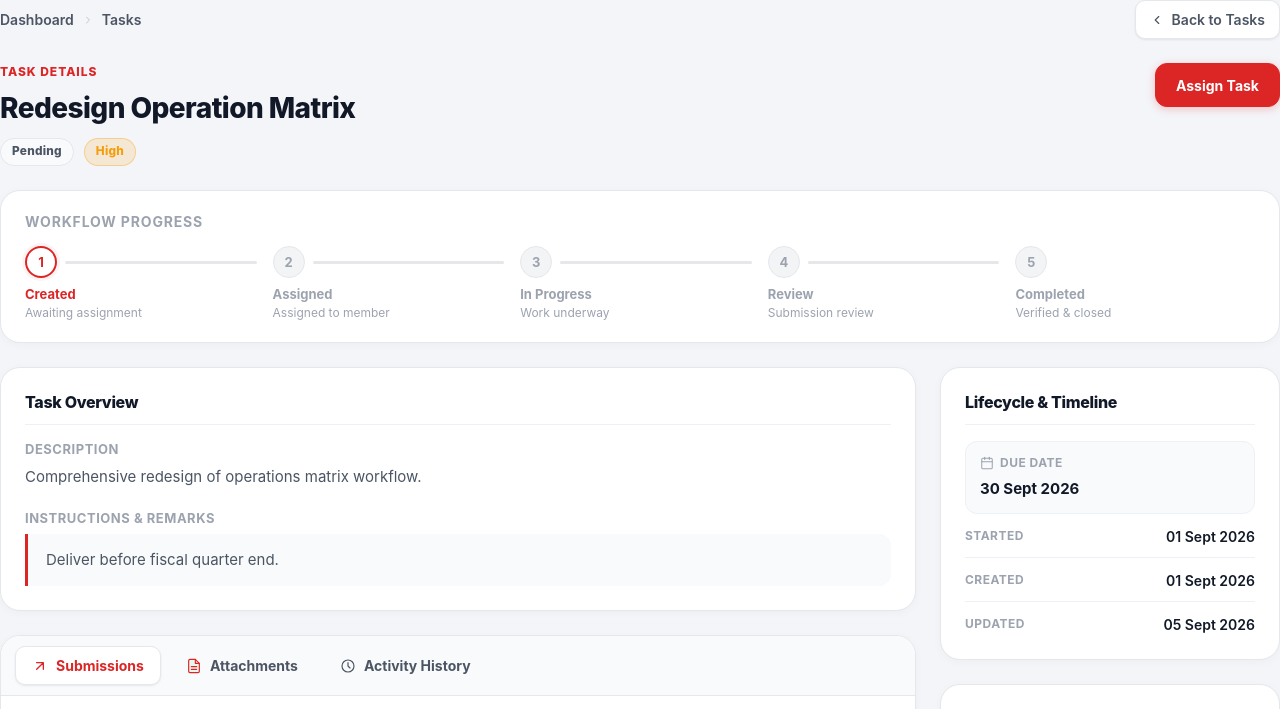
TaskDetails › shows Assign Task button for ADMIN on PENDING task and opens dialog
This screenshot has width=1280, height=709.
What coordinates should you click on to do the following:
click the button "Assign Task"
I would click on:
 (1217, 85)
Its box is left=1155, top=63, right=1279, bottom=107.
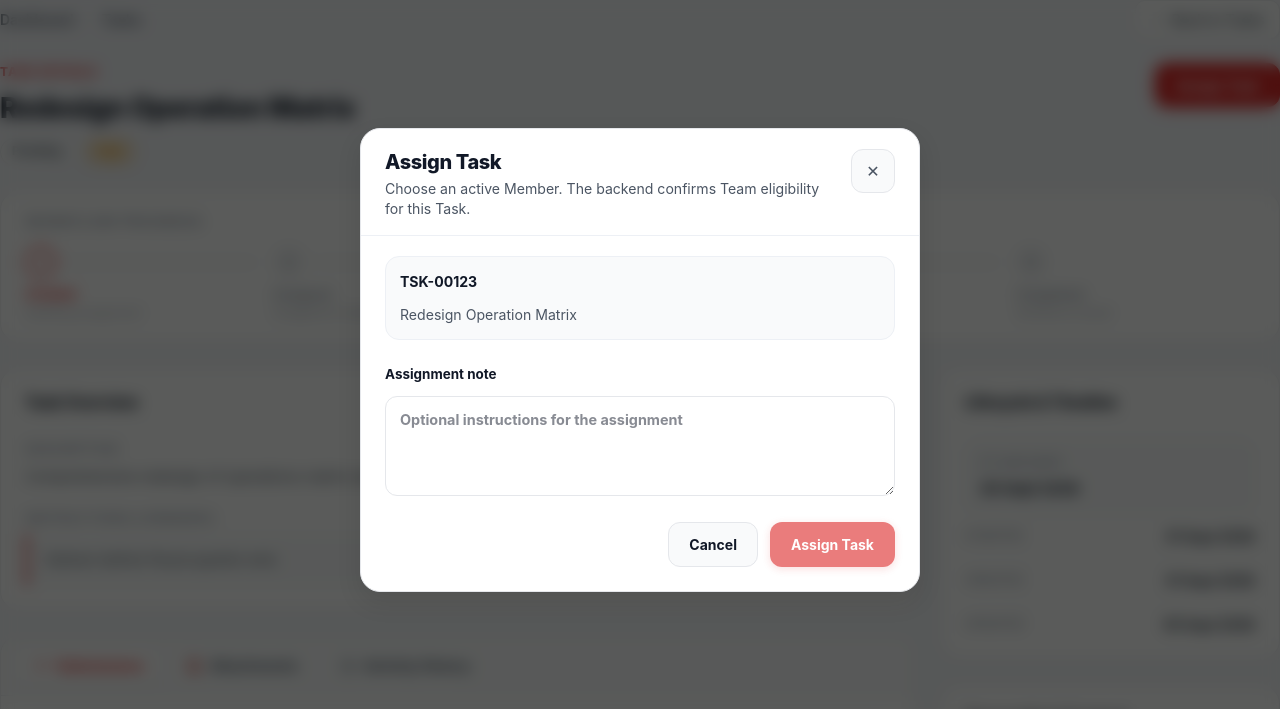
Expected: the heading "Assign Task" is shown, left=385, top=150, right=501, bottom=174
